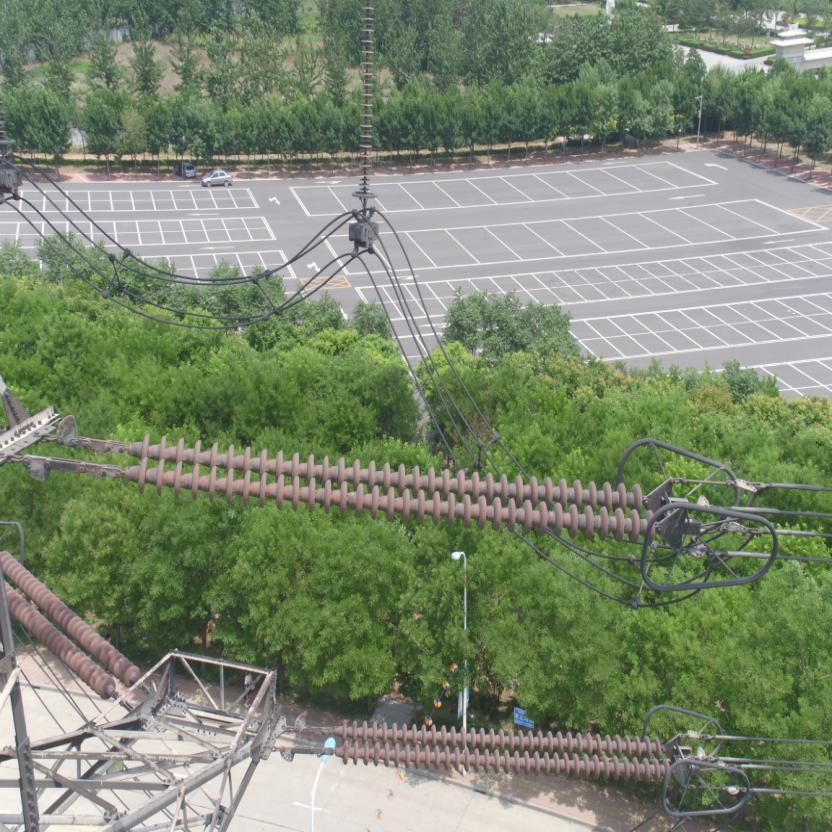insulator: (113, 430, 666, 544), (319, 716, 675, 782), (0, 549, 145, 701)
